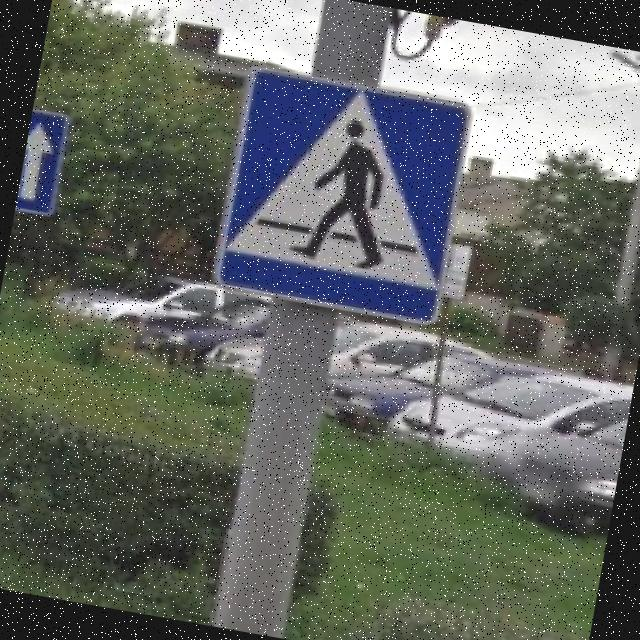Przejscie dla pieszych: (203, 59, 481, 331)
